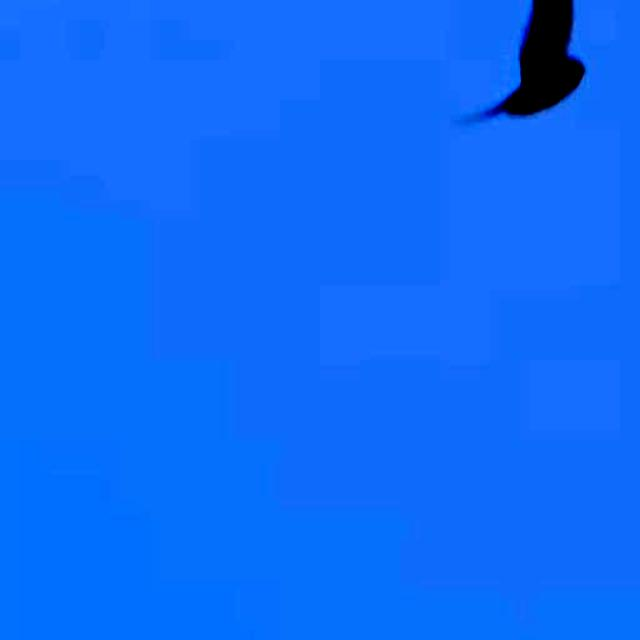airplane: (470, 0, 588, 129)
